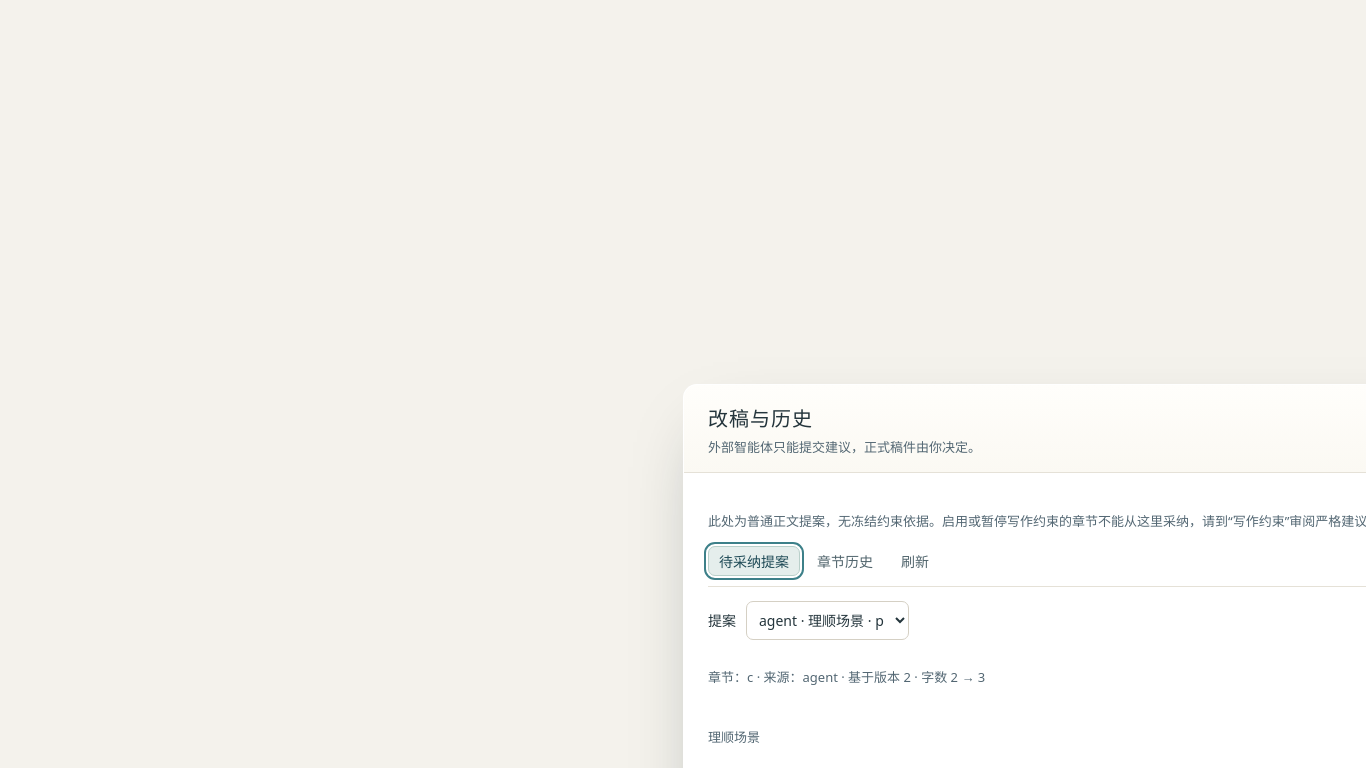
Test: does not fetch any history on proposal tab and never falls back to the legacy full-body method
The image size is (1366, 768).
Click the button "章节历史" at (845, 561), box [806,546,884,576]
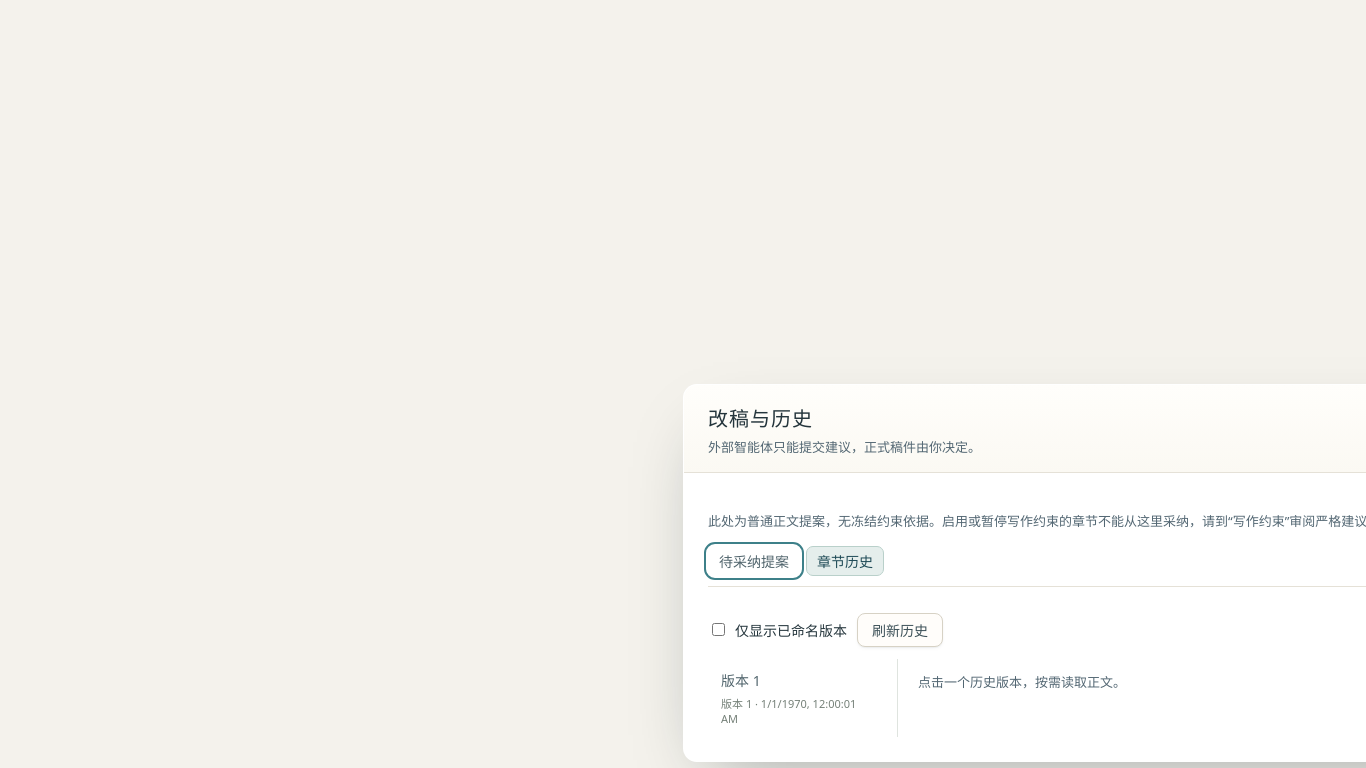
Check: the button "版本 1 版本 1 · 1/1/1970, 12:00:01 AM" is shown, box [708,659,885,737]
